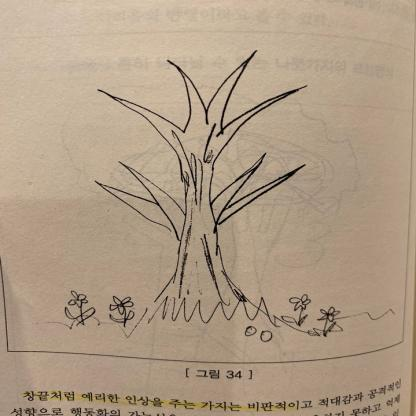branch_sharp: (95, 51, 314, 152)
root_none: (130, 282, 296, 352)
trunk_bark: (177, 163, 226, 272)
